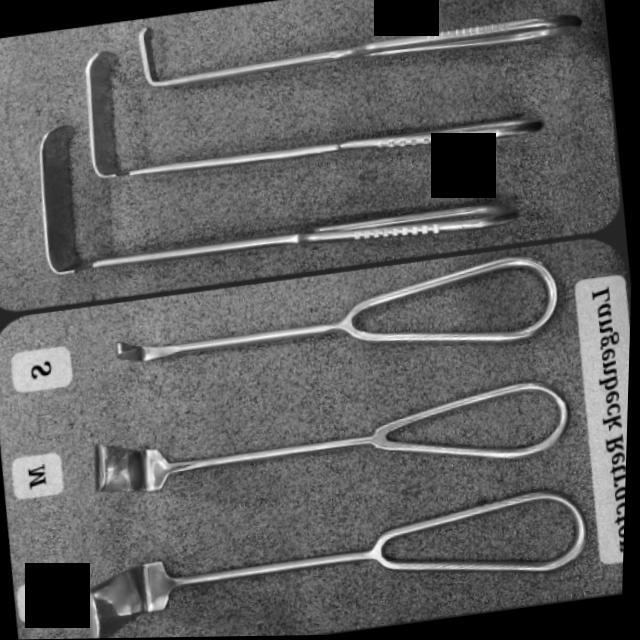Langenbach Retractor: (24, 56, 532, 298), (52, 0, 577, 214), (77, 490, 600, 636), (87, 368, 579, 522), (96, 244, 572, 402), (116, 0, 588, 112)
